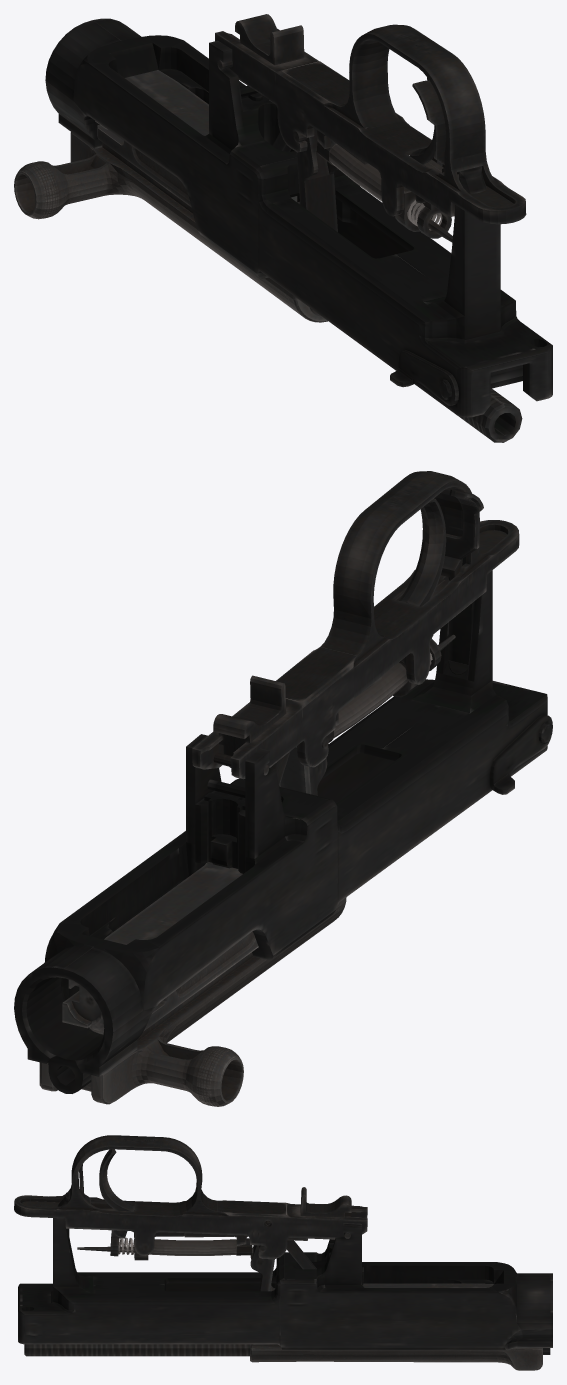
3 renders of one model, top to bottom at view 1: azimuth 30°, elevation 25°; view 2: azimuth 150°, elevation 25°; view 3: azimuth 270°, elevation 25°, orthographic. The views are drawn at different scales.
Parts seen in each view (by area): view 1: TW_574d967124597745970e7c94_PZ_Import; view 2: TW_574d967124597745970e7c94_PZ_Import; view 3: TW_574d967124597745970e7c94_PZ_Import.
Part boxes in pixels (left/top/right/bottom): TW_574d967124597745970e7c94_PZ_Import: left=14, top=14, right=552, bottom=442; TW_574d967124597745970e7c94_PZ_Import: left=14, top=471, right=552, bottom=1106; TW_574d967124597745970e7c94_PZ_Import: left=14, top=1135, right=552, bottom=1370.
Size of the model in its own units: 0.0314 by 0.1418 by 0.0657.
1 material, 1 textured.
